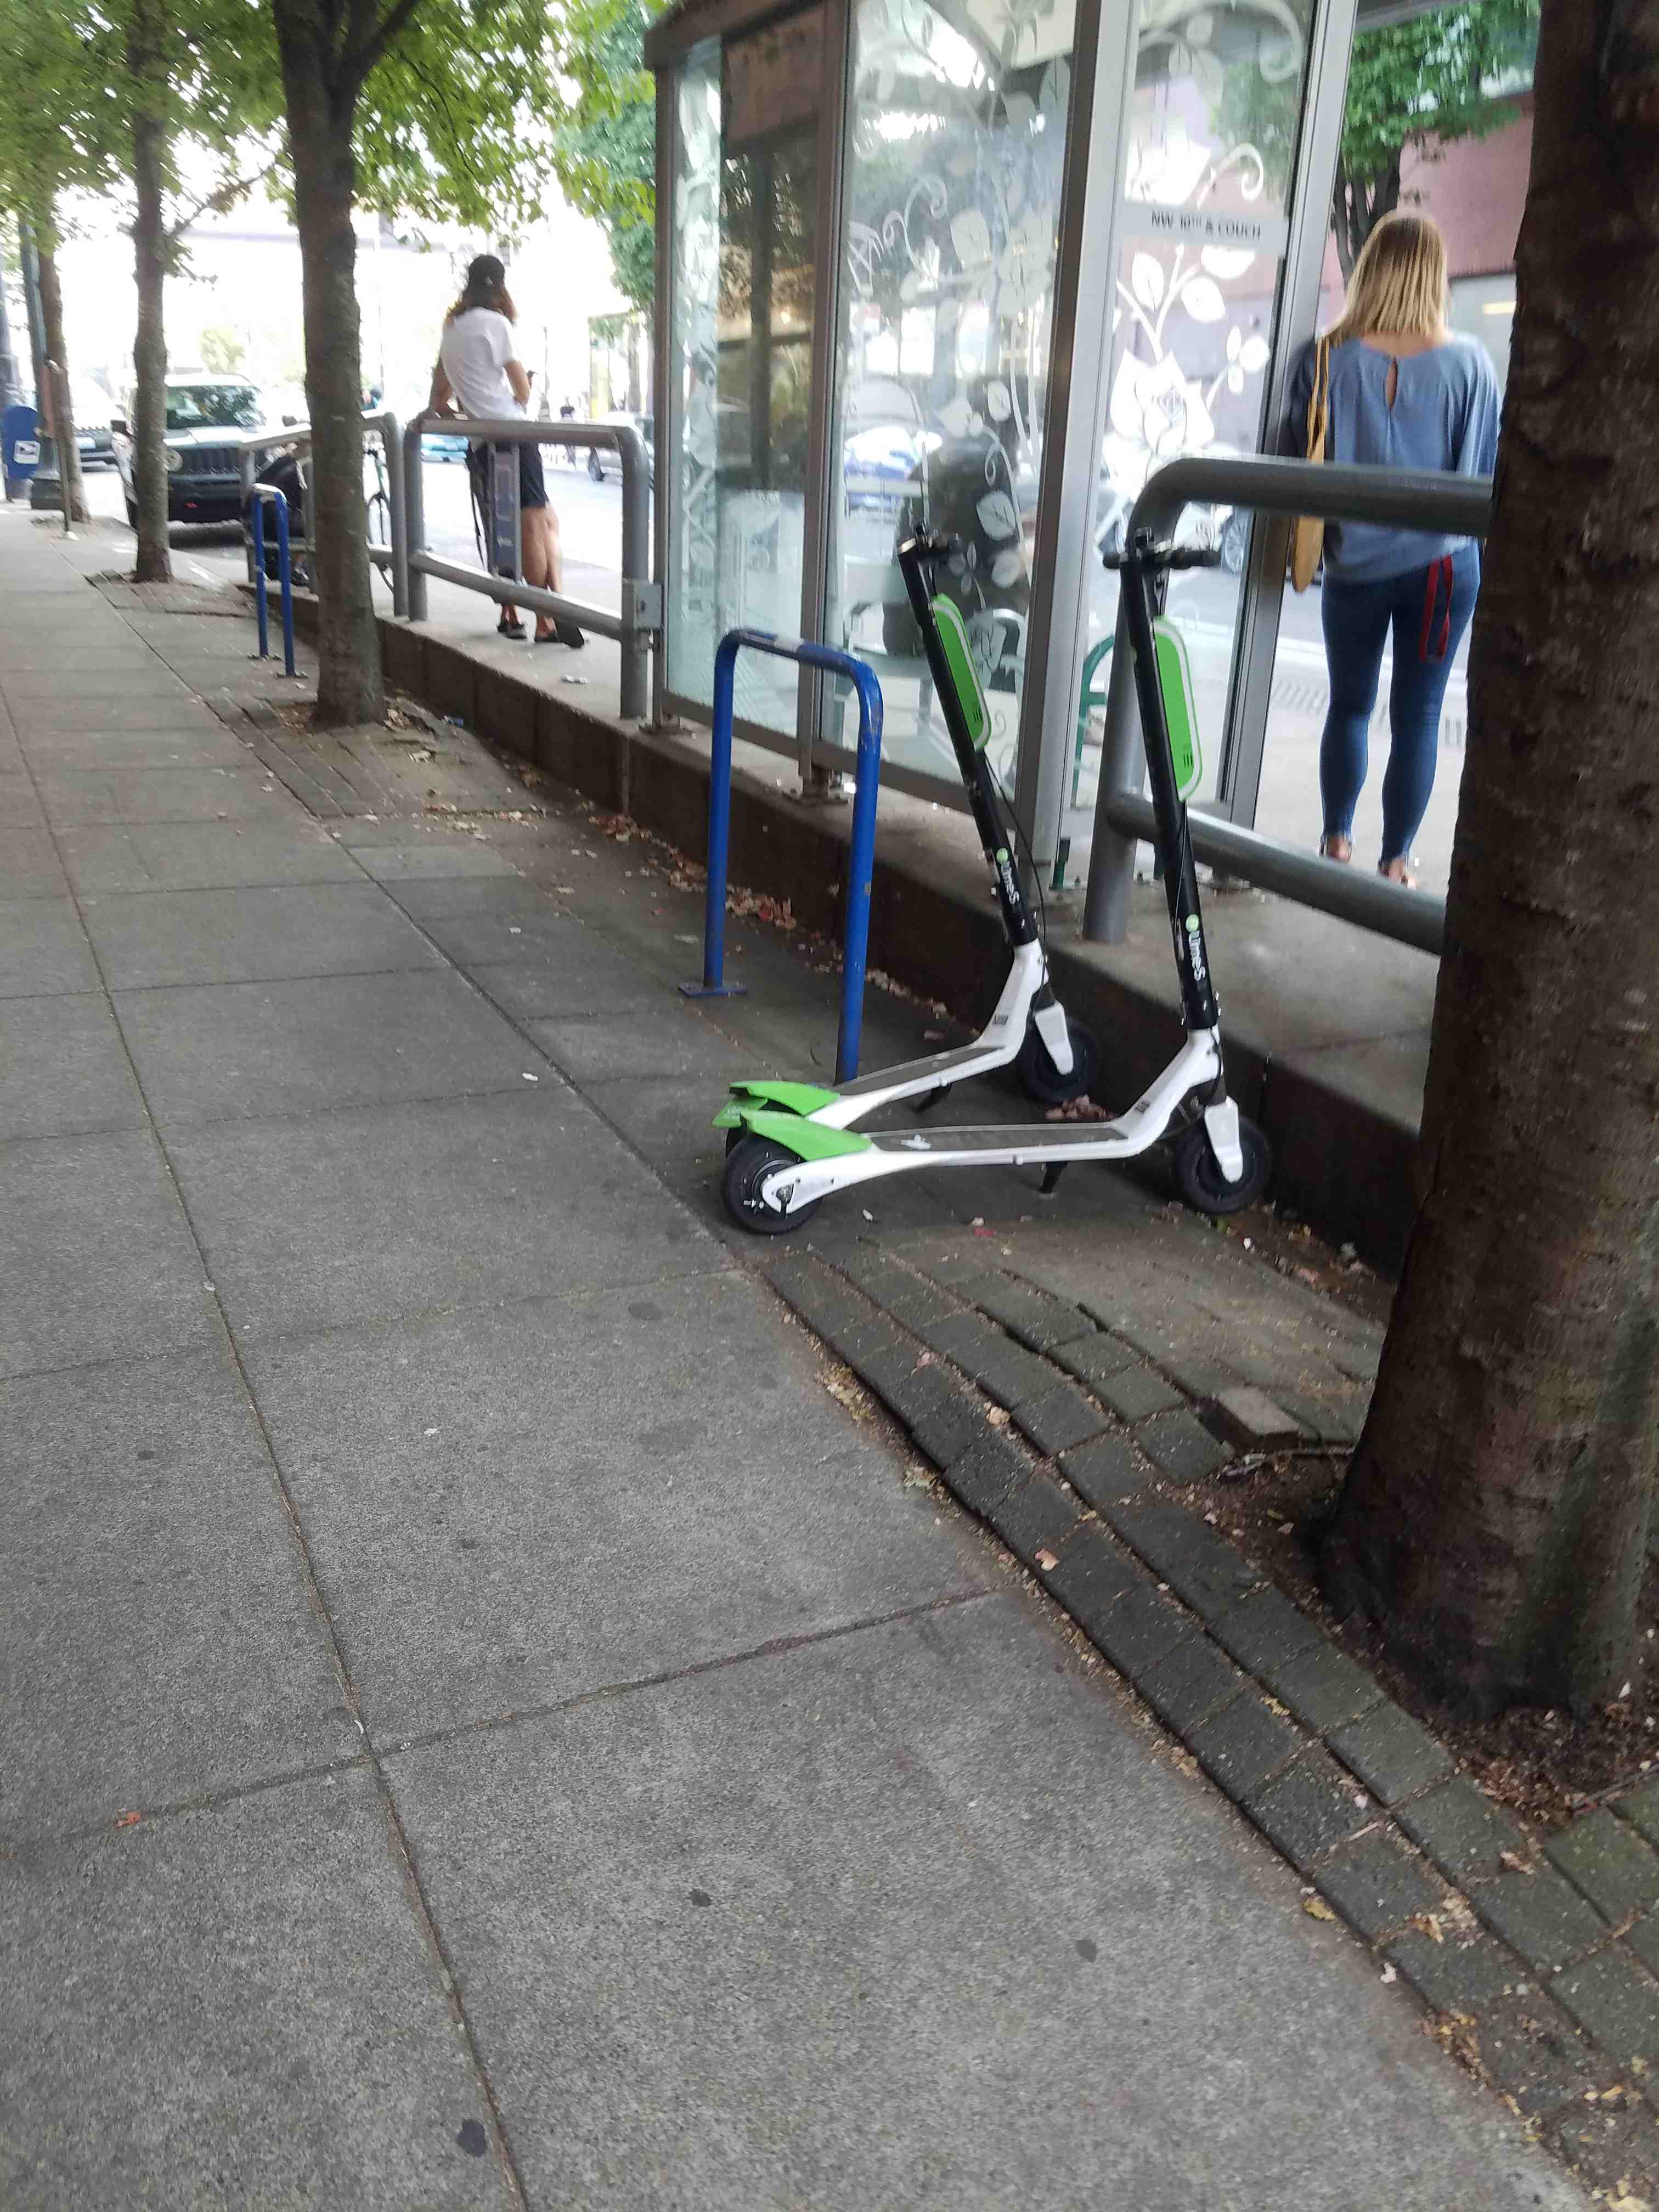scooter: (734, 540, 1270, 1233)
